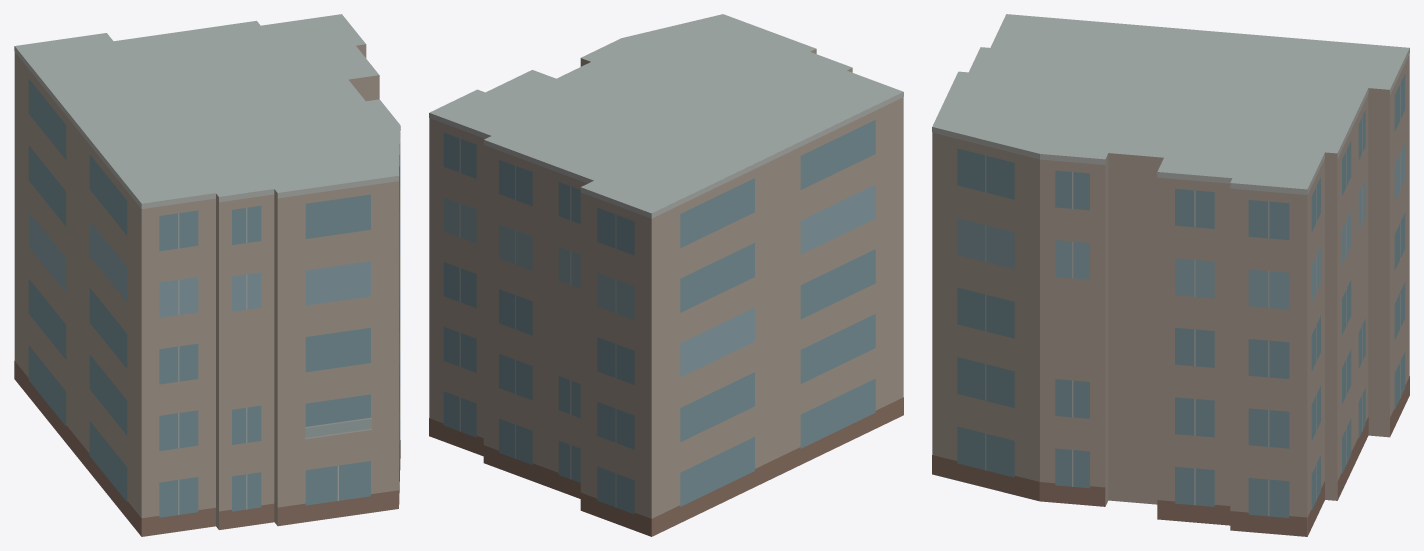
File: survey-upis-32877018.glb
3 renders of one model, left to right at view 1: azimuth 30°, elevation 25°; view 2: azimuth 150°, elevation 25°; view 3: azimuth 270°, elevation 25°, orthographic. The views are drawn at different scales.
Visible parts, largest first — view 1: survey-upis-32877018.tmp; view 2: survey-upis-32877018.tmp; view 3: survey-upis-32877018.tmp.
Boxes of the visible parts, x1,y1,x2,y2 form: survey-upis-32877018.tmp: (14, 14, 400, 536); survey-upis-32877018.tmp: (429, 14, 903, 536); survey-upis-32877018.tmp: (932, 14, 1409, 536).
Size of the model in its own units: 16.3 by 15.05 by 18.76.
